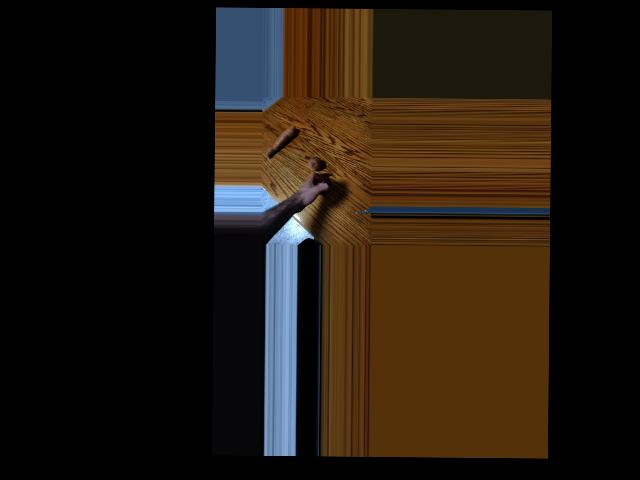onion: (302, 157, 320, 175)
